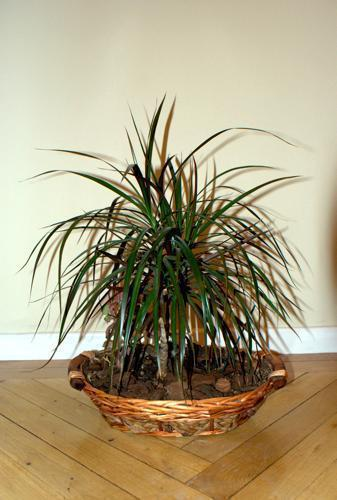Matera: (21, 93, 313, 442)
